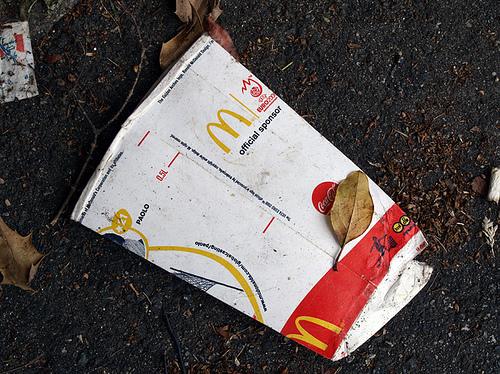litter: (68, 32, 434, 361), (487, 164, 500, 205)
